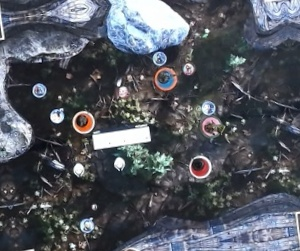light_blue_orange: (153, 65, 179, 91)
orange: (70, 108, 96, 134)
pink_green: (200, 115, 226, 141)
red: (189, 153, 215, 179)
